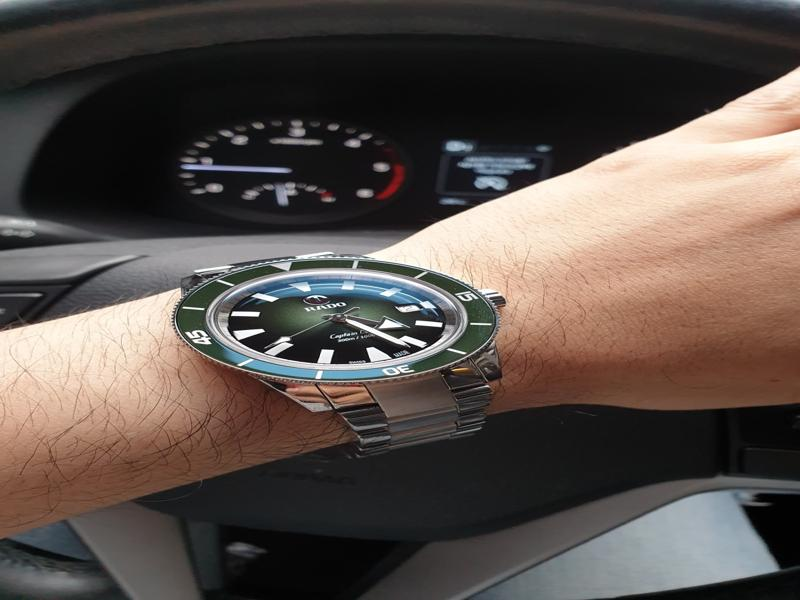watch: (174, 251, 508, 461)
